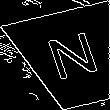N_S: (39, 29, 102, 88)
